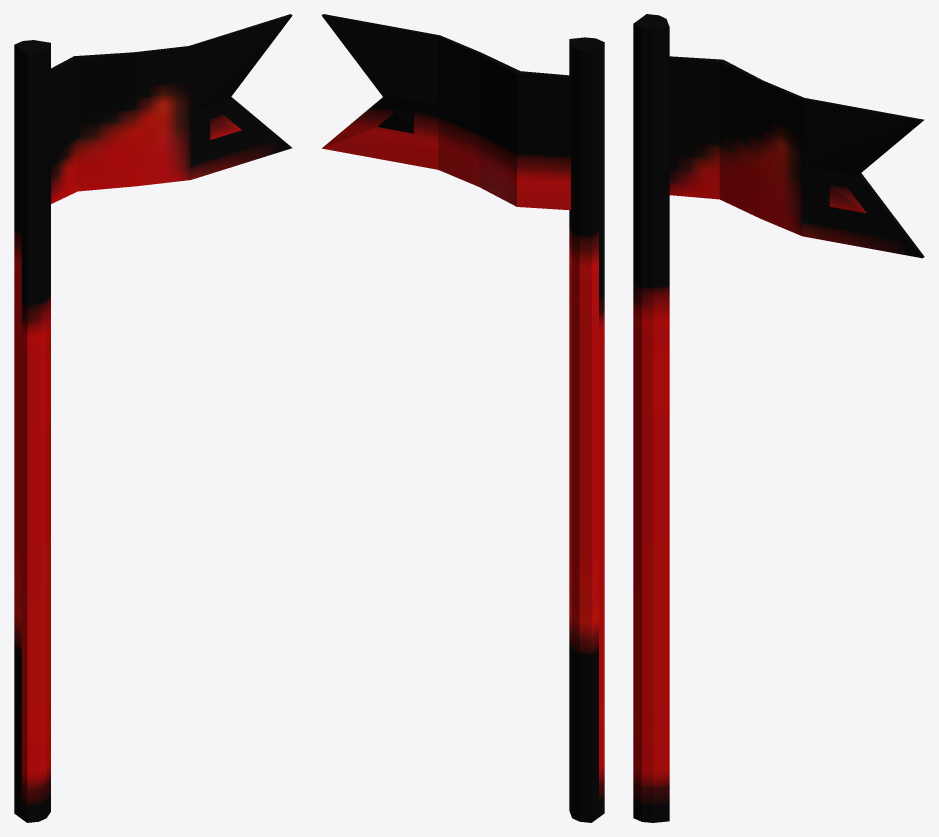
File: GolfFlag.glb
3 renders of one model, left to right at view 1: azimuth 30°, elevation 25°; view 2: azimuth 150°, elevation 25°; view 3: azimuth 330°, elevation 25°, orthographic. The views are drawn at different scales.
Parts seen in each view (by area): view 1: GolfFlag; view 2: GolfFlag; view 3: GolfFlag.
Boxes of the visible parts, x1,y1,x2,y2 form: GolfFlag: (14,14,292,822); GolfFlag: (321,14,604,822); GolfFlag: (633,14,924,822).
Bounding box in the file's own units: 93.07 × 251 × 12.94.
Materials: 1 (1 with a texture image).
